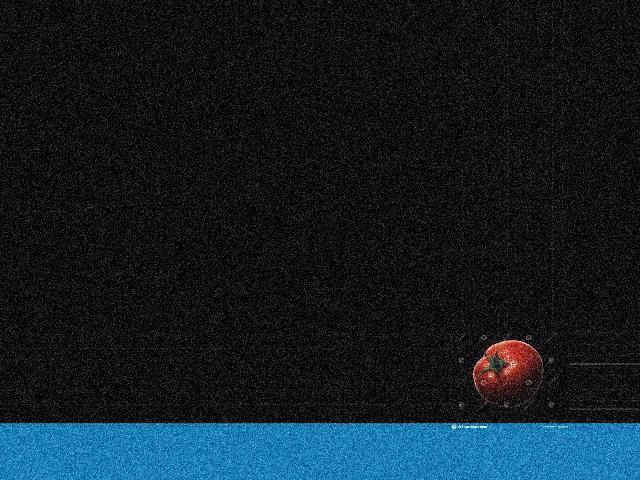tomato: (473, 340, 544, 407)
